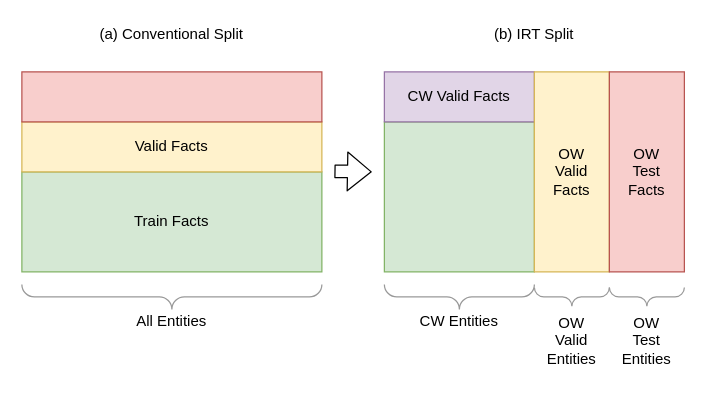
The diagram is 719 pixels wide and 393 high, and some of its shapes have lost their labels. The shapes that lost their labels are listed below. From the top down, each one's centre as x and y in pixels, then its label:
point 171,96: Test Facts
point 458,196: CW Train Facts
